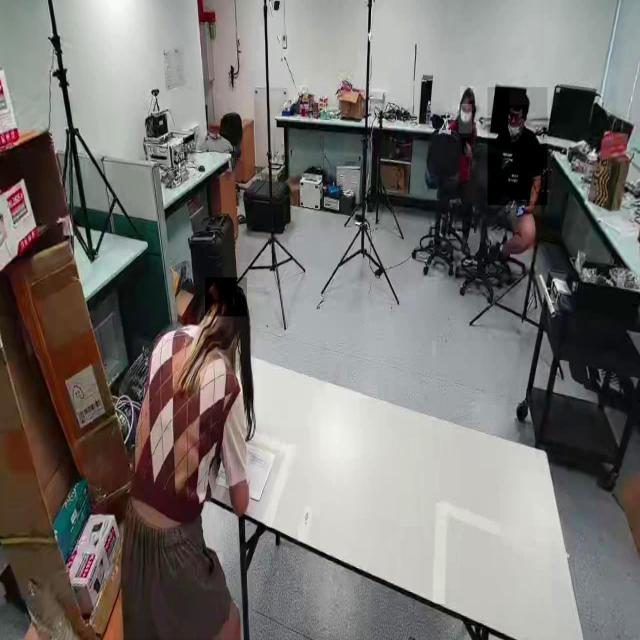face_mask: (458, 104, 472, 133)
hand_noglove: (517, 201, 533, 215), (462, 138, 472, 156)
head_nohelmet: (205, 278, 247, 318), (510, 90, 530, 106), (460, 86, 474, 102)
person: (110, 278, 262, 639), (426, 89, 478, 257), (488, 87, 548, 206)
